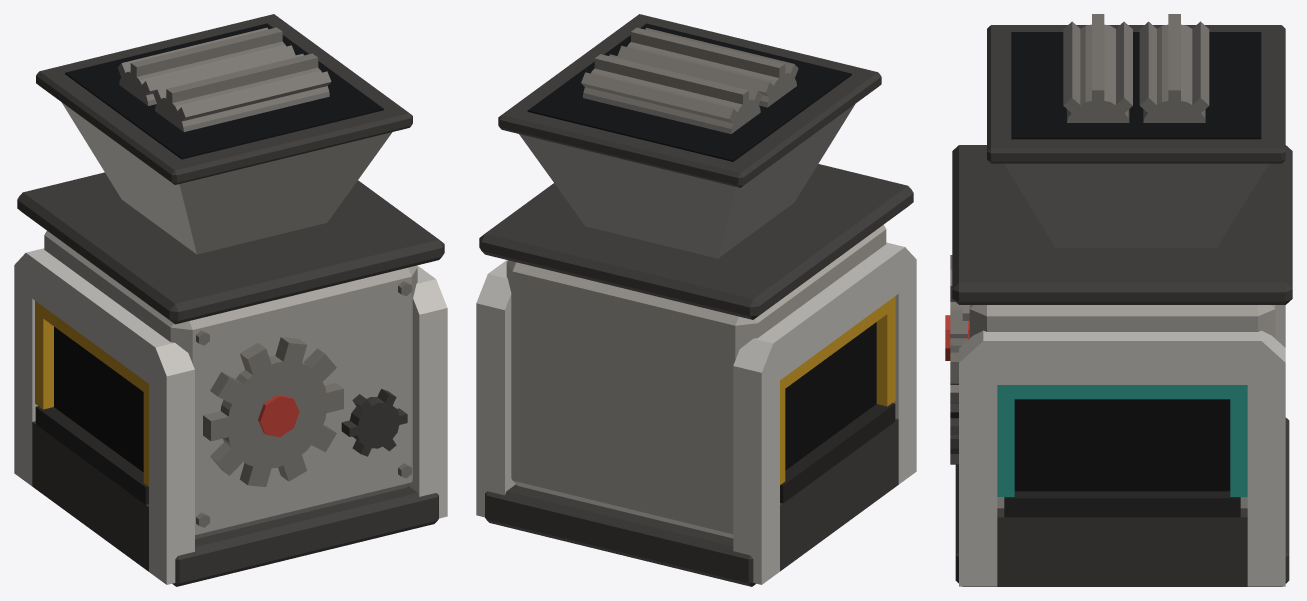
File: crusher.fbx
3 renders of one model, left to right at view 1: azimuth 30°, elevation 25°; view 2: azimuth 150°, elevation 25°; view 3: azimuth 270°, elevation 25°, orthographic. The views are drawn at different scales.
Parts seen in each view (by area): view 1: crusher; view 2: crusher; view 3: crusher.
Boxes of the visible parts, bbox=[...] form: crusher: bbox=[14, 14, 447, 586]; crusher: bbox=[476, 14, 916, 586]; crusher: bbox=[945, 14, 1292, 586].
Size of the model in its own units: 3 by 4.45 by 3.
